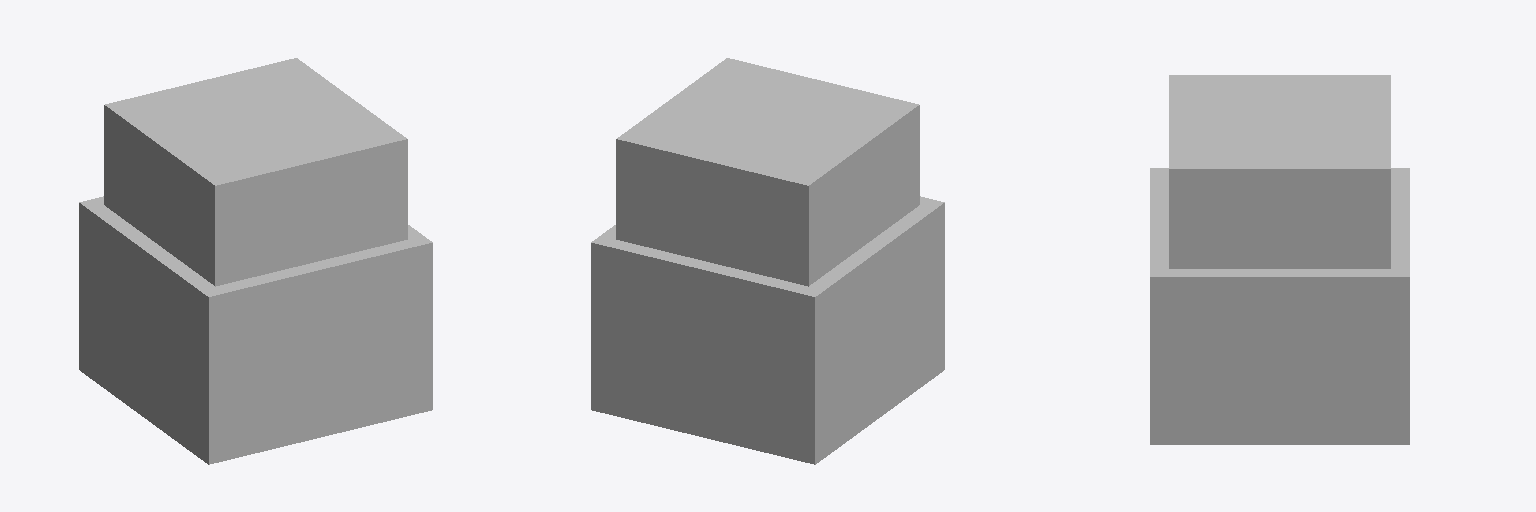
Rendered from etching_tank.obj.
The picture shows the model from 3 angles: view 1: azimuth 30°, elevation 25°; view 2: azimuth 150°, elevation 25°; view 3: azimuth 270°, elevation 25°; orthographic projection.
Size of the model in its own units: 0.875 by 1 by 0.875.